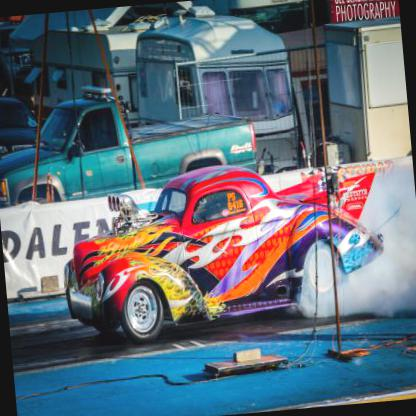car: (57, 142, 370, 355), (0, 92, 44, 164)
